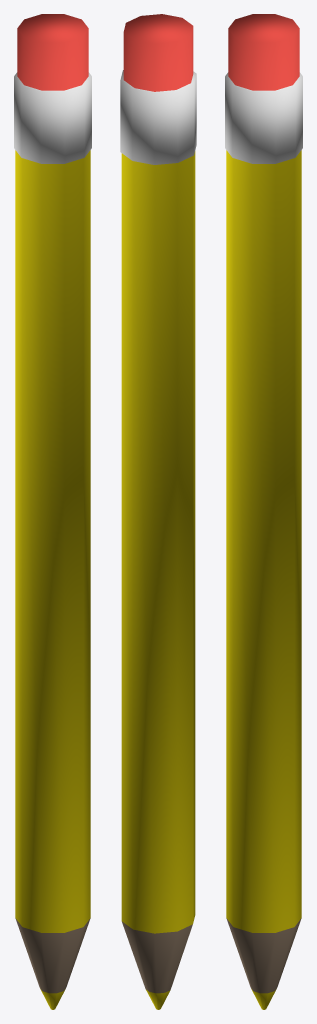
The model's file is Pen.fbx.
3 views of the same model, side by side, from view 1: azimuth 90°, elevation 25°; view 2: azimuth 210°, elevation 25°; view 3: azimuth 270°, elevation 25° (orthographic).
Visible parts, largest first — view 1: Cylinder; view 2: Cylinder; view 3: Cylinder.
Part boxes in pixels (x1,y1,x2,y2): Cylinder: (14, 14, 91, 1009); Cylinder: (120, 14, 196, 1009); Cylinder: (225, 14, 302, 1009).
Size of the model in its own units: 3.93 by 57.43 by 4.13.
